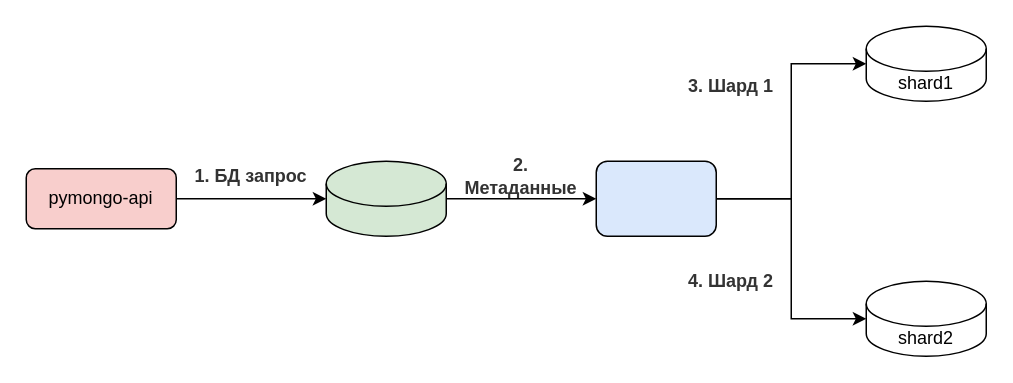
Image size: 1013x383. Some labels were removed from this diagram. The centre of each missing label's shape, as x and y in pixels:
"configSrv" goes at (385,198).
"mongos" goes at (655,198).
